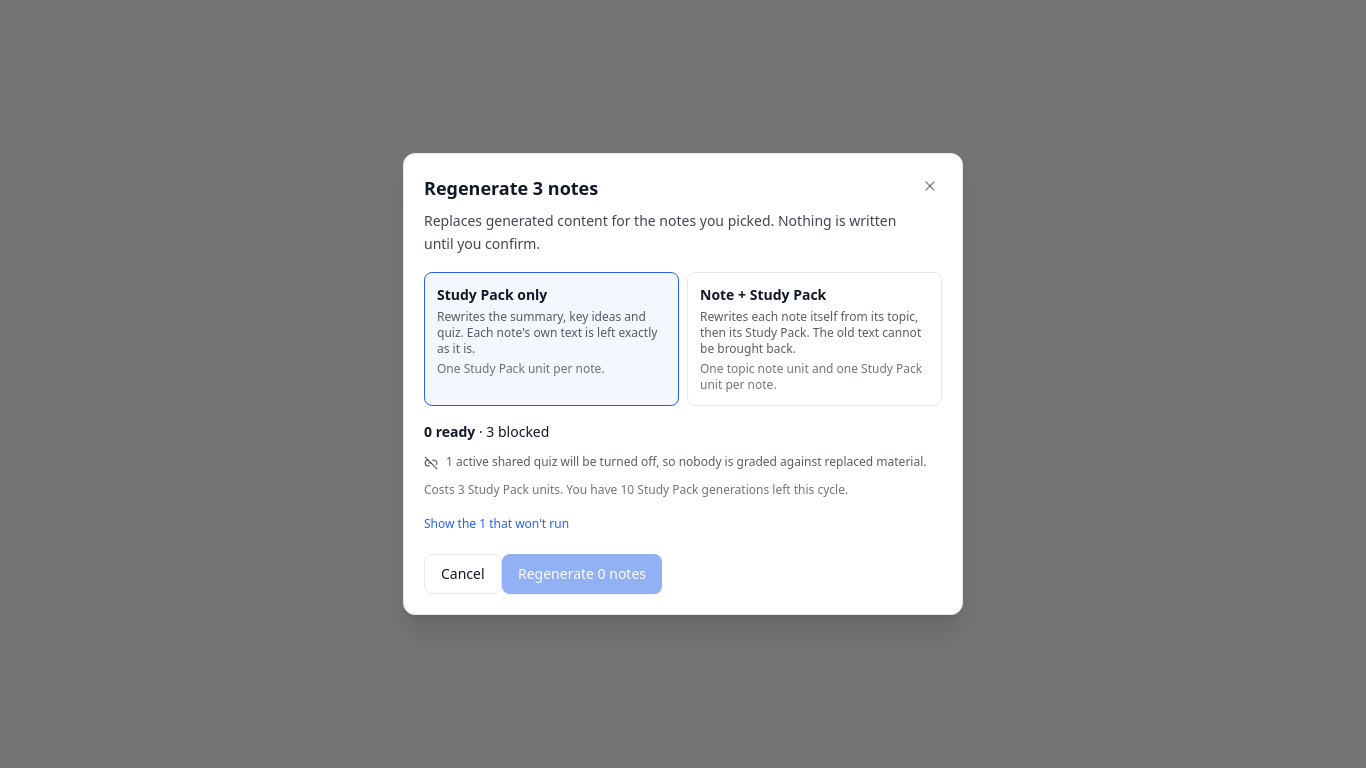
BulkRegenerateModal › does not offer to start when nothing in the selection is ready
This screenshot has width=1366, height=768.
Expected: the button "Regenerate 0 notes" is disabled, [502, 554, 662, 594]
Step 1. Click the button "Show the 1 that won't run" → (497, 524), box [424, 516, 569, 532]
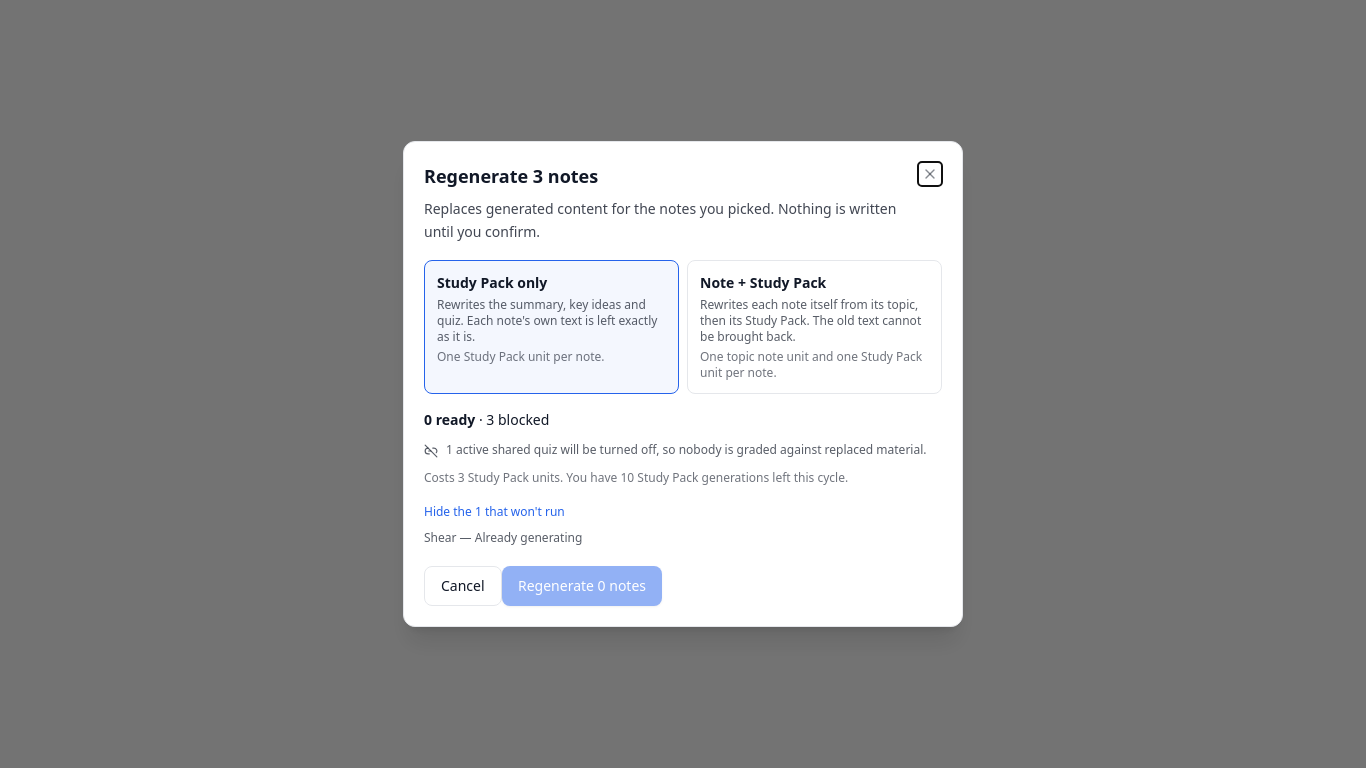
Result: the list item "Shear — Already generating" is shown at [424, 529, 582, 546]
